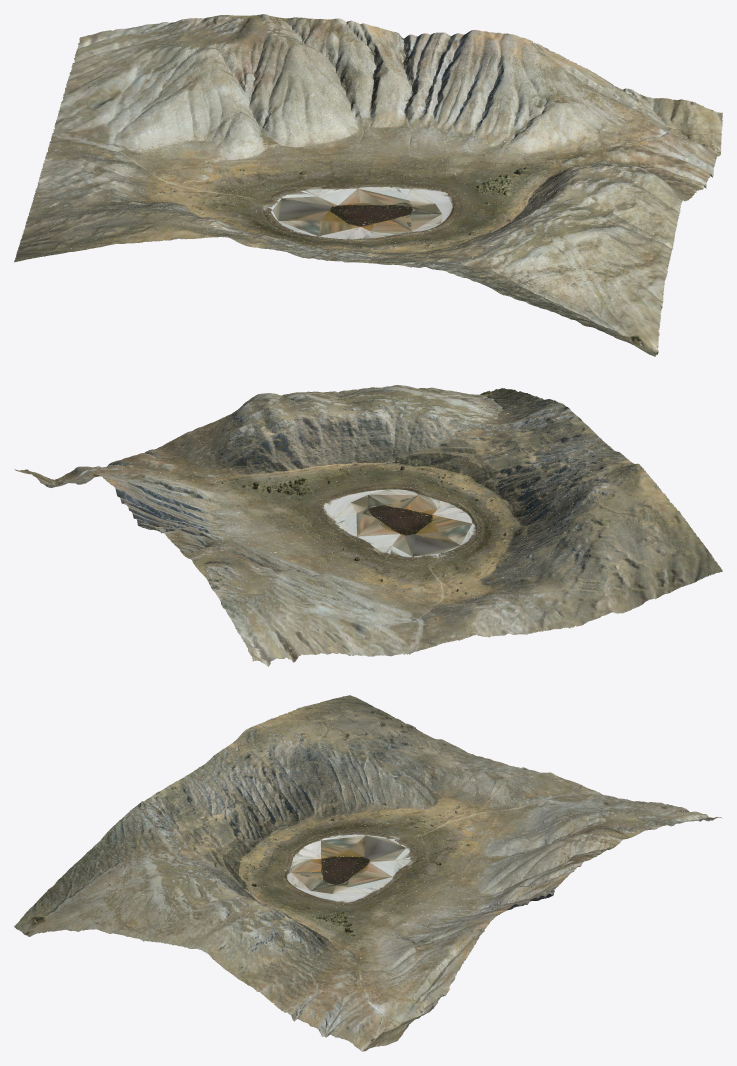
The picture shows the model from 3 angles, top to bottom: view 1: azimuth 30°, elevation 25°; view 2: azimuth 150°, elevation 25°; view 3: azimuth 270°, elevation 25°; orthographic projection. The views are drawn at different scales.
Parts seen in each view (by area): view 1: polat; view 2: polat; view 3: polat.
Boxes of the visible parts, left/top/right/bottom form: polat: left=14, top=14, right=722, bottom=356; polat: left=14, top=385, right=722, bottom=666; polat: left=14, top=695, right=722, bottom=1051.
Size of the model in its own units: 1426 by 195 by 1403.
Materials: 17 (17 with a texture image).
